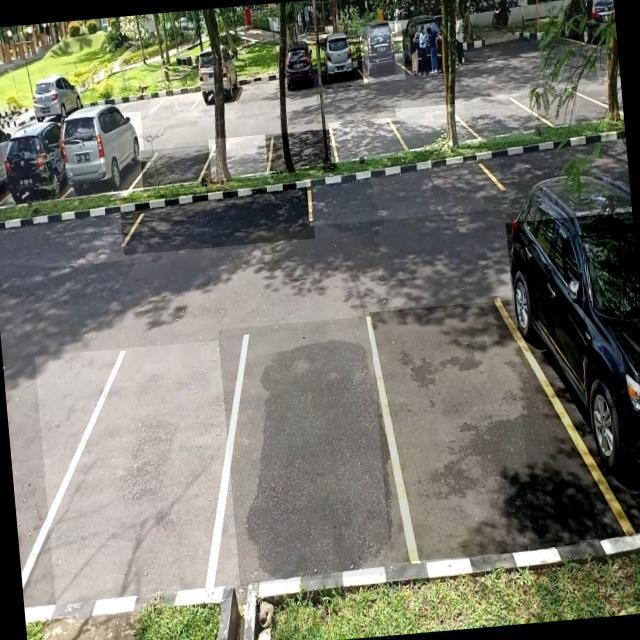empty: (34, 338, 255, 604), (369, 296, 580, 562), (218, 314, 406, 586), (118, 181, 314, 255), (305, 157, 503, 226), (453, 91, 539, 146), (394, 103, 468, 153), (140, 144, 217, 192), (328, 116, 405, 163), (264, 128, 336, 174), (208, 134, 276, 181), (148, 80, 202, 119), (234, 65, 282, 104)
occupied: (505, 211, 640, 544), (60, 110, 146, 196), (0, 117, 70, 210), (188, 53, 244, 111), (357, 23, 405, 82), (316, 36, 364, 90), (276, 45, 322, 97)
